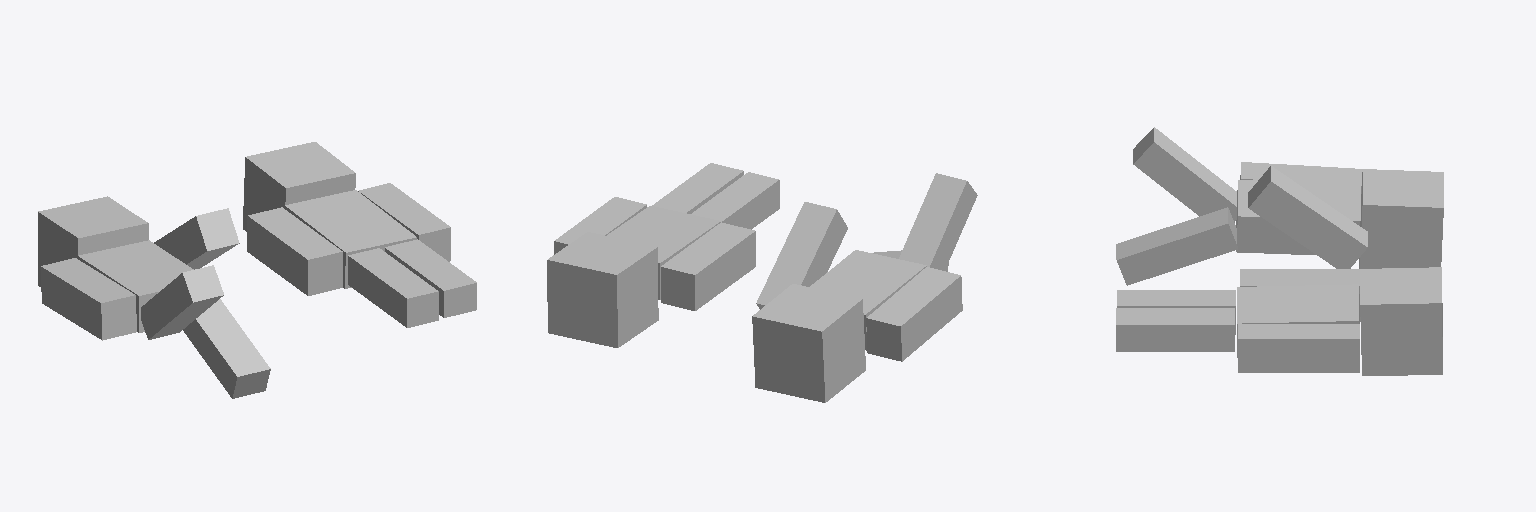
File: steve_000012.obj
3 views of the same model, side by side, from view 1: azimuth 30°, elevation 25°; view 2: azimuth 150°, elevation 25°; view 3: azimuth 270°, elevation 25° (orthographic).
Parts seen in each view (by area): view 1: Cube.001_Cube.002, Cube_Cube.001; view 2: Cube_Cube.001, Cube.001_Cube.002; view 3: Cube_Cube.001, Cube.001_Cube.002.
Boxes of the visible parts, box(x1,y1,x2,y2) form: Cube.001_Cube.002: box(243, 142, 476, 327); Cube_Cube.001: box(38, 196, 270, 398); Cube_Cube.001: box(752, 173, 977, 402); Cube.001_Cube.002: box(547, 163, 779, 347); Cube_Cube.001: box(1116, 127, 1443, 285); Cube.001_Cube.002: box(1116, 267, 1442, 375).
Size of the model in its own units: 6.55 by 2.25 by 5.35.